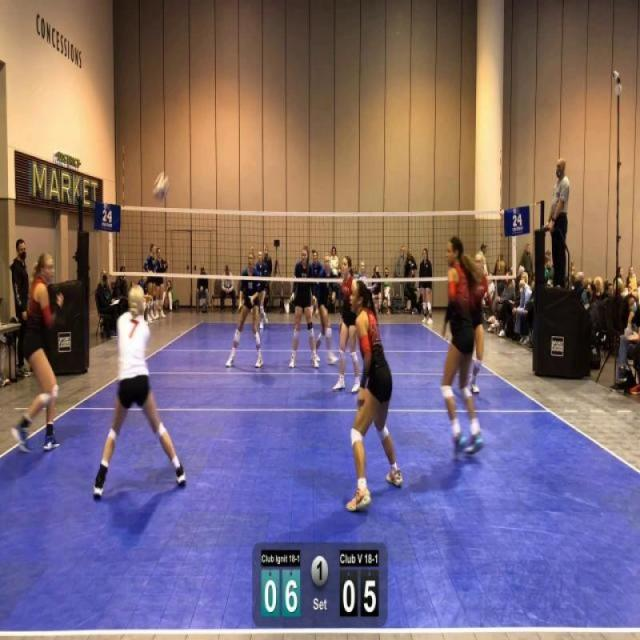volleyball: (151, 169, 171, 204)
